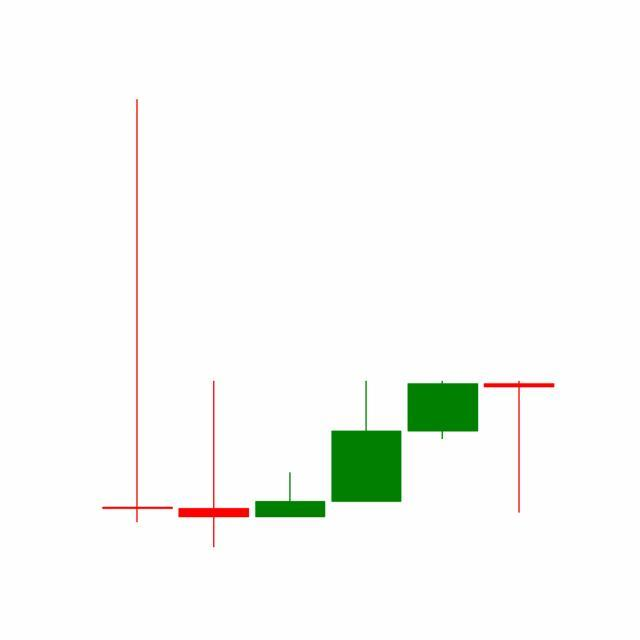Marubozu: (404, 380, 482, 441)
